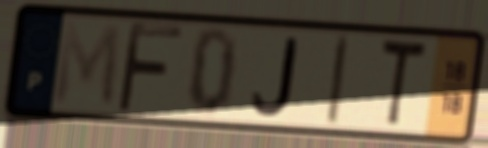0: (187, 26, 241, 120)
F: (113, 18, 186, 116)
I: (323, 32, 352, 129)
J: (249, 36, 299, 119)
M: (51, 18, 124, 111)
T: (377, 35, 430, 132)
